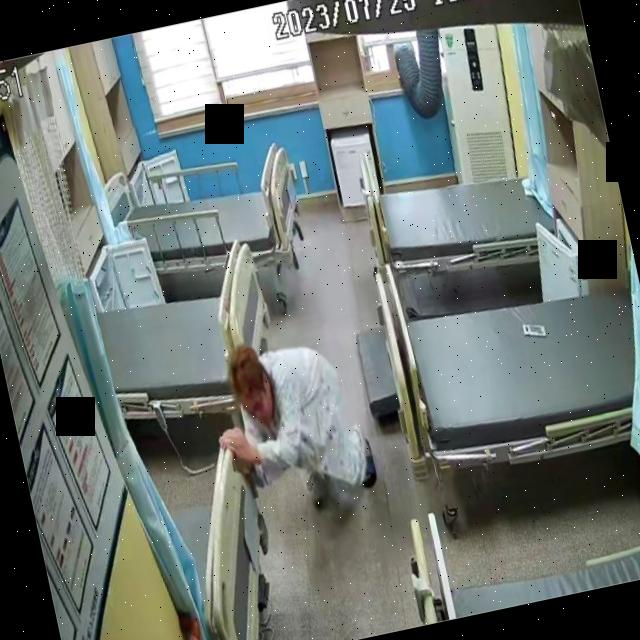bed: (397, 262, 640, 481), (86, 234, 292, 443), (101, 138, 307, 294), (358, 134, 560, 290)
danger: (202, 324, 382, 526)
patient: (202, 324, 382, 526)
